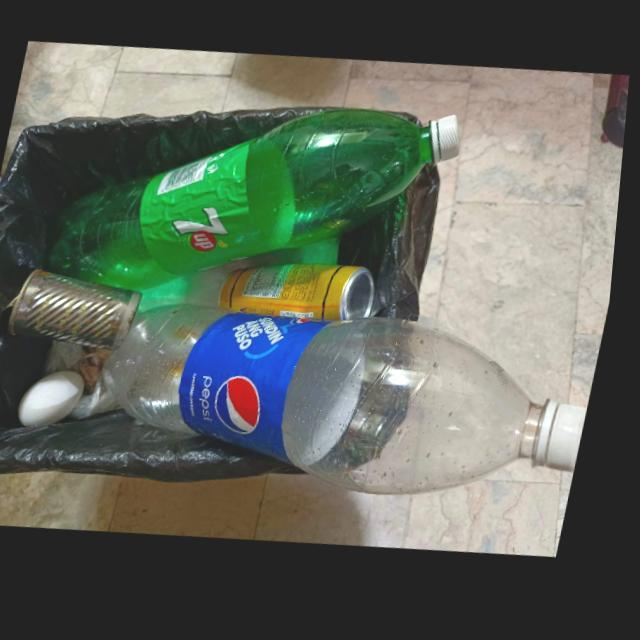biowaste: (24, 371, 92, 429)
metal: (12, 270, 148, 352), (223, 268, 383, 329)
plastic: (116, 310, 593, 502), (50, 114, 463, 295)
